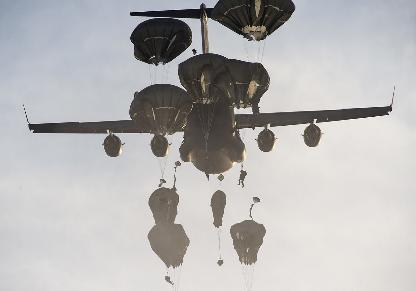C2: (22, 2, 394, 173)
